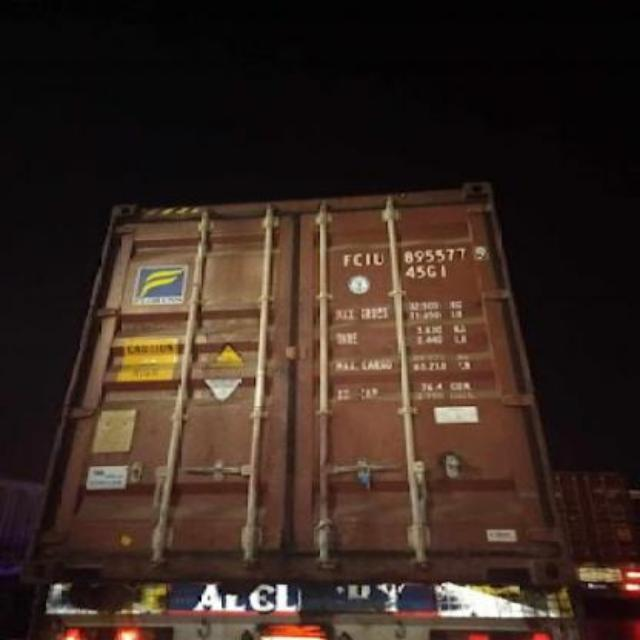5: (434, 232, 446, 264), (422, 236, 434, 264)
7: (454, 240, 472, 264), (444, 242, 456, 264)
8: (402, 244, 412, 266)
9: (474, 242, 490, 264), (411, 243, 424, 261)
C: (352, 248, 364, 270)
F: (340, 248, 352, 272)
I: (362, 249, 372, 267)
U: (372, 248, 384, 268)
